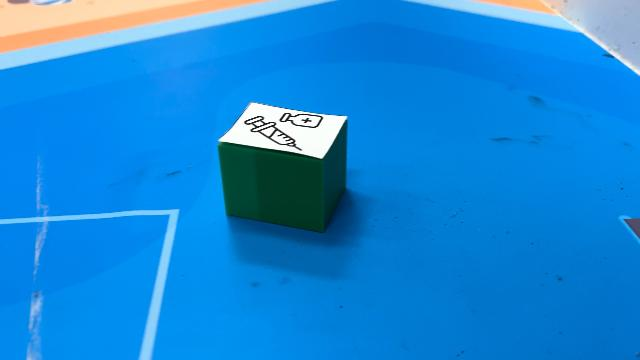syringe: (218, 102, 348, 236)
